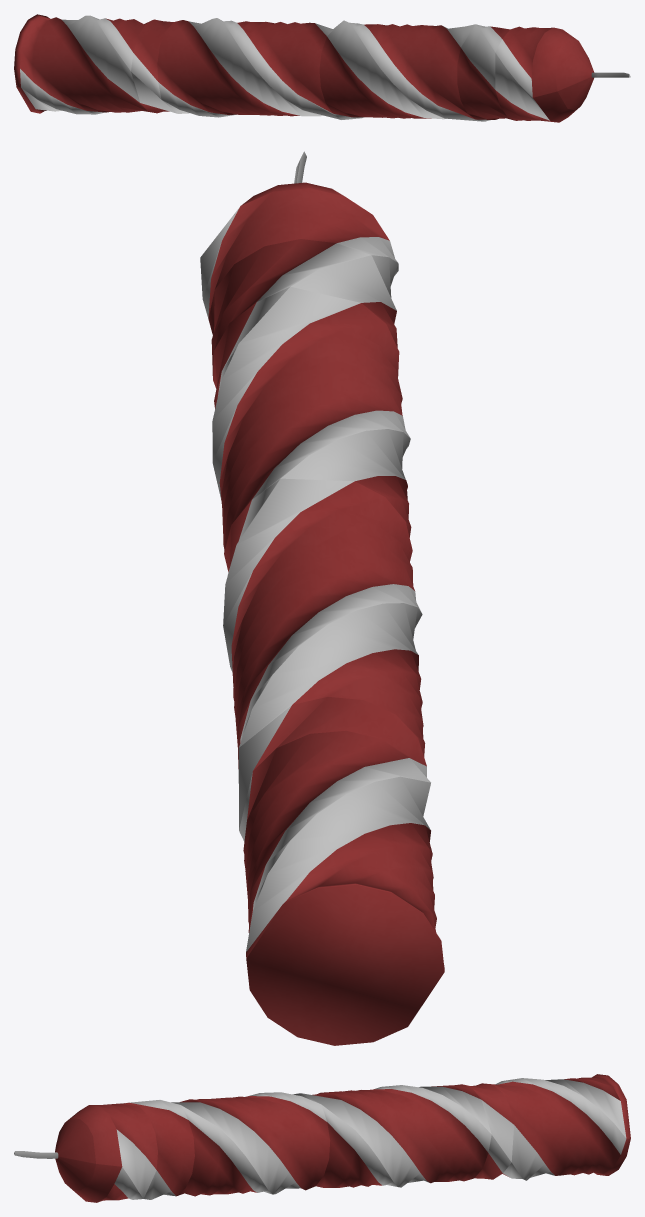
The model's file is candle.obj.
3 renders of one model, top to bottom at view 1: azimuth 30°, elevation 25°; view 2: azimuth 150°, elevation 25°; view 3: azimuth 270°, elevation 25°, orthographic. The views are drawn at different scales.
Visible parts, largest first — view 1: dynamic; view 2: dynamic; view 3: dynamic.
Part boxes in pixels (x1,y1,x2,y2): dynamic: (14, 14, 630, 122); dynamic: (200, 151, 444, 1045); dynamic: (14, 1074, 630, 1202).
Bounding box in the file's own units: 574 × 303 × 865.
Materials: 2 (2 with a texture image).
